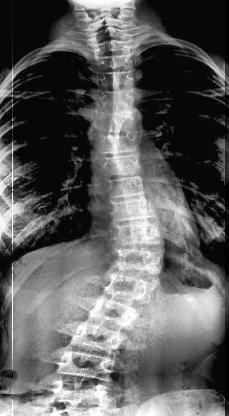Vertebrae: (50, 348, 124, 382), (46, 374, 118, 406), (67, 320, 127, 356), (109, 218, 167, 248), (100, 270, 158, 300), (98, 172, 156, 200), (84, 297, 140, 325), (105, 249, 167, 274), (102, 197, 162, 221), (97, 151, 148, 179), (92, 132, 142, 154), (90, 108, 138, 130), (93, 90, 139, 110), (98, 71, 142, 91), (89, 38, 136, 56), (93, 54, 137, 72), (82, 27, 136, 41), (82, 18, 134, 32)
